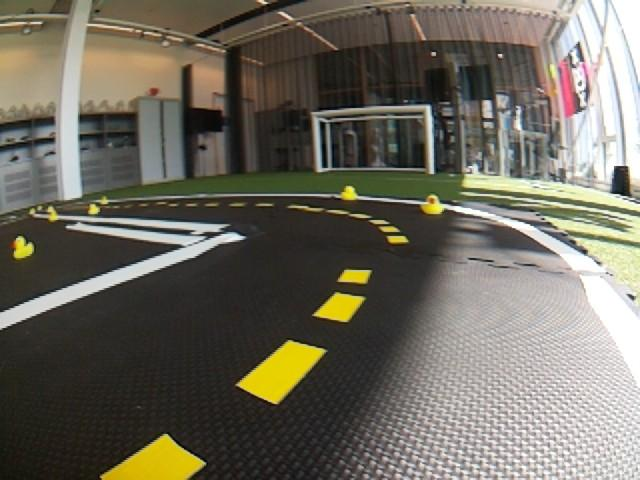Duckies: (92, 435, 206, 480), (12, 237, 33, 259), (421, 197, 446, 215), (341, 186, 358, 199), (88, 203, 101, 215), (48, 213, 60, 222), (97, 197, 108, 205), (47, 206, 56, 213), (28, 209, 36, 215)
